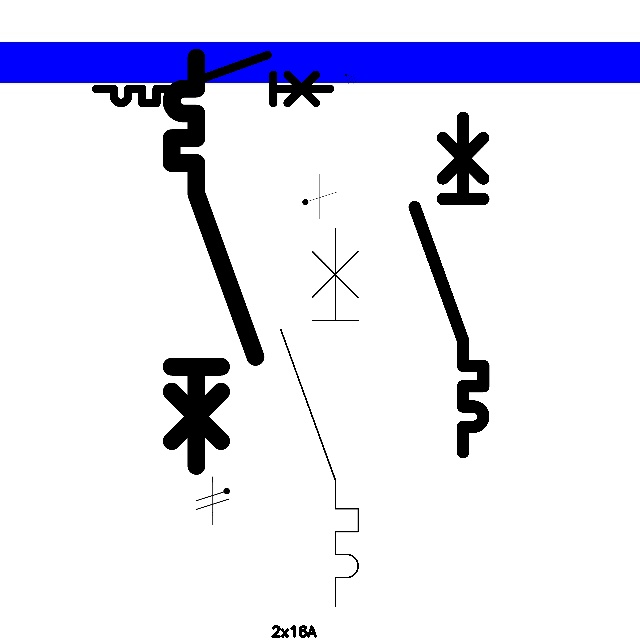interruptor_termomagnetico: (161, 47, 266, 477), (271, 218, 368, 615), (406, 109, 492, 461), (90, 49, 336, 109)
